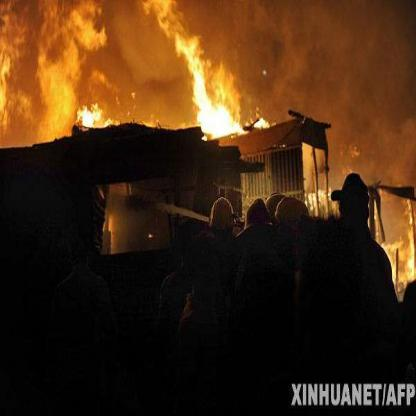fire: (0, 1, 118, 141), (148, 2, 260, 135), (377, 187, 415, 292)
